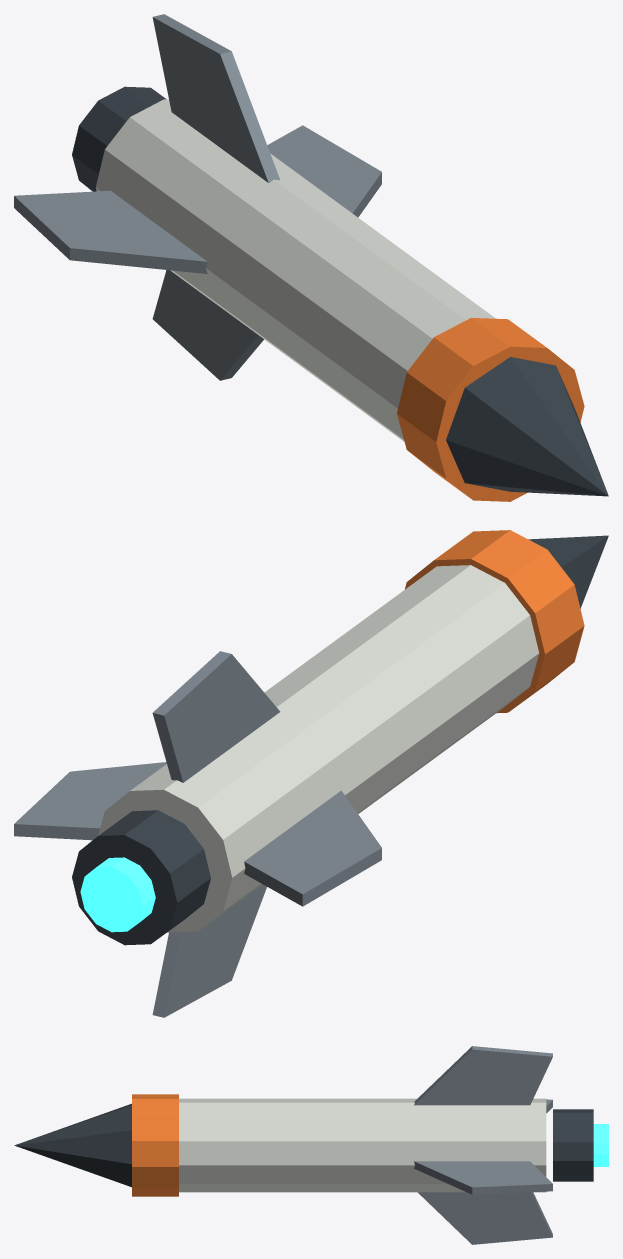
The model's file is VXAUX_HOMING_MISSILE_v002.fbx.
The picture shows the model from 3 angles, top to bottom: view 1: azimuth 30°, elevation 25°; view 2: azimuth 150°, elevation 25°; view 3: azimuth 270°, elevation 25°; orthographic projection. The views are drawn at different scales.
Visible parts, largest first — view 1: Missile body, Faceted missile nose, Orange nose ring, Swept vertical fin.001, Swept horizontal fin, Swept vertical fin, Swept horizontal fin.001, Exhaust nozzle; view 2: Missile body, Orange nose ring, Exhaust nozzle, Swept vertical fin.001, Swept horizontal fin, Swept vertical fin, Swept horizontal fin.001, Exhaust core, Faceted missile nose; view 3: Missile body, Swept vertical fin.001, Faceted missile nose, Swept vertical fin, Orange nose ring, Swept horizontal fin.001, Exhaust nozzle, Exhaust core.
Boxes of the visible parts, x1=… form: Missile body: x1=95, y1=99, x2=495, y2=441; Faceted missile nose: x1=446, y1=357, x2=608, y2=496; Orange nose ring: x1=397, y1=318, x2=584, y2=501; Swept vertical fin.001: x1=152, y1=14, x2=279, y2=182; Swept horizontal fin: x1=14, y1=190, x2=207, y2=273; Swept vertical fin: x1=152, y1=270, x2=263, y2=380; Swept horizontal fin.001: x1=267, y1=125, x2=381, y2=217; Exhaust nozzle: x1=72, y1=86, x2=166, y2=191; Missile body: x1=98, y1=565, x2=539, y2=932; Orange nose ring: x1=405, y1=530, x2=584, y2=713; Exhaust nozzle: x1=72, y1=810, x2=210, y2=945; Swept vertical fin.001: x1=152, y1=651, x2=280, y2=782; Swept horizontal fin: x1=244, y1=790, x2=381, y2=906; Swept vertical fin: x1=152, y1=884, x2=266, y2=1017; Swept horizontal fin.001: x1=14, y1=762, x2=166, y2=840; Exhaust core: x1=80, y1=857, x2=155, y2=932; Faceted missile nose: x1=528, y1=535, x2=608, y2=608; Missile body: x1=179, y1=1098, x2=546, y2=1192; Swept vertical fin.001: x1=414, y1=1046, x2=552, y2=1105; Faceted missile nose: x1=14, y1=1103, x2=131, y2=1187; Swept vertical fin: x1=418, y1=1192, x2=552, y2=1244; Orange nose ring: x1=132, y1=1094, x2=178, y2=1196; Swept horizontal fin.001: x1=414, y1=1161, x2=552, y2=1194; Exhaust nozzle: x1=553, y1=1109, x2=593, y2=1181; Exhaust core: x1=593, y1=1124, x2=608, y2=1166.
Size of the model in its own units: 16 by 16 by 44.15.
